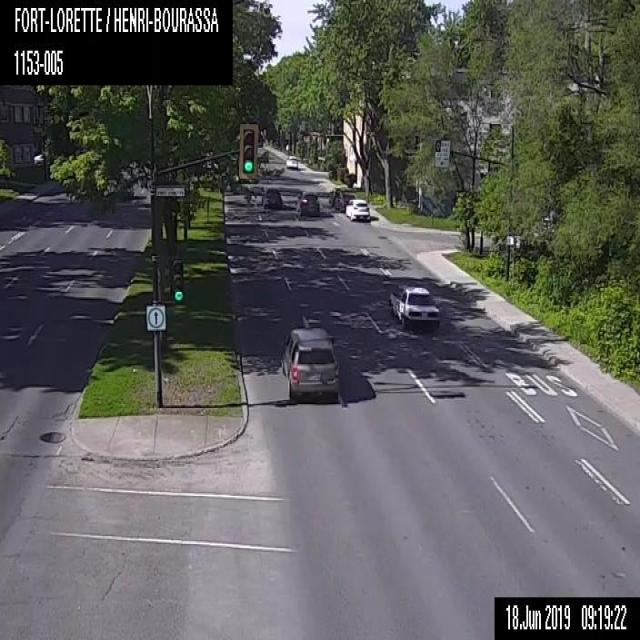vehicle: (281, 324, 340, 400), (386, 282, 441, 334), (295, 189, 321, 218), (344, 198, 371, 222), (261, 186, 283, 210), (335, 190, 356, 209), (284, 155, 298, 169), (32, 151, 42, 165)
